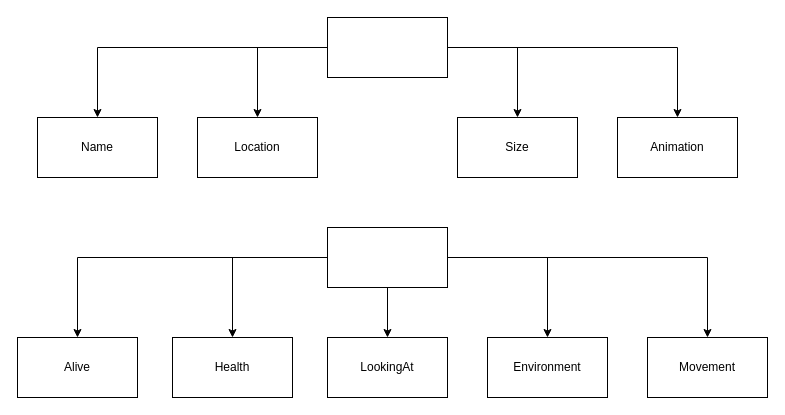
This 785x415 diagram has some shape labels left out. The shapes that lost their labels are listed below. From the top down, each one's centre as x and y in pixels, then its label:
(387,47): GameObject
(387,257): Life
